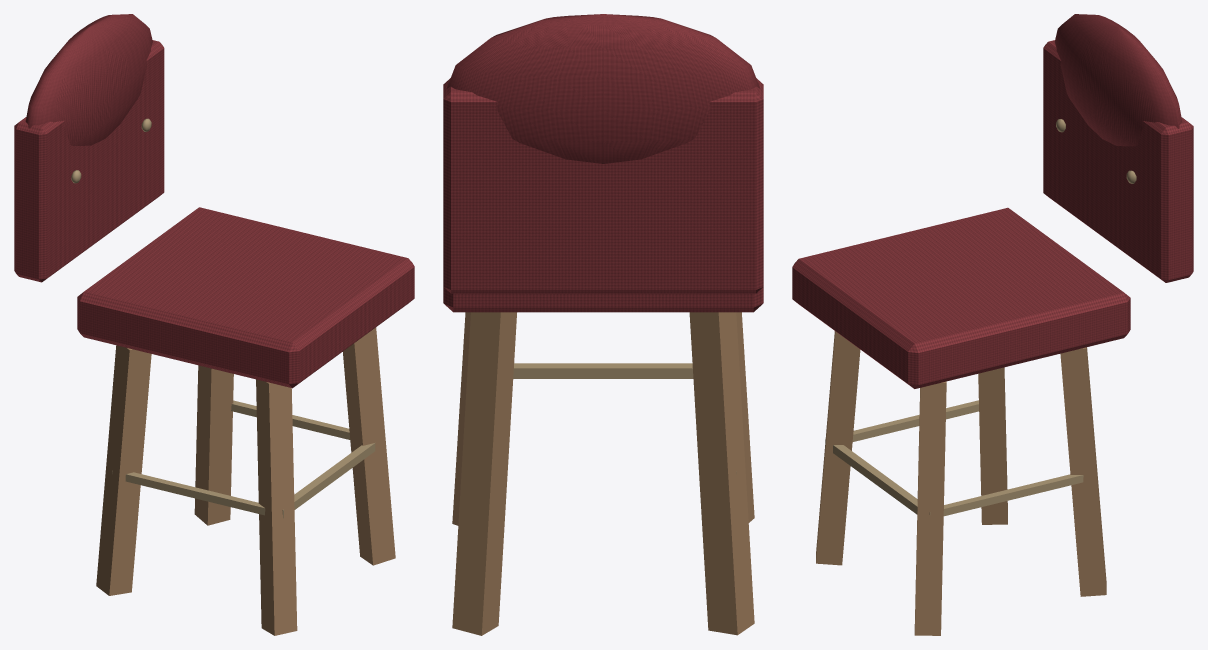
Rendered from yokocho-snack-chair.glb.
3 renders of one model, left to right at view 1: azimuth 30°, elevation 25°; view 2: azimuth 150°, elevation 25°; view 3: azimuth 270°, elevation 25°, orthographic. The views are drawn at different scales.
Parts seen in each view (by area): view 1: Shops/S04/Personality/Seating/4_snack__Night_WineUpholstery, Shops/S04/Personality/Seating/4_snack__Night_Walnut, Shops/S04/Personality/Seating/4_snack__Bronze; view 2: Shops/S04/Personality/Seating/4_snack__Night_WineUpholstery, Shops/S04/Personality/Seating/4_snack__Night_Walnut, Shops/S04/Personality/Seating/4_snack__Bronze; view 3: Shops/S04/Personality/Seating/4_snack__Night_WineUpholstery, Shops/S04/Personality/Seating/4_snack__Night_Walnut, Shops/S04/Personality/Seating/4_snack__Bronze.
Part boxes in pixels (box(x1,y1,x2,y2)): Shops/S04/Personality/Seating/4_snack__Night_WineUpholstery: box(14, 14, 414, 388); Shops/S04/Personality/Seating/4_snack__Night_Walnut: box(96, 327, 395, 635); Shops/S04/Personality/Seating/4_snack__Bronze: box(71, 118, 375, 518); Shops/S04/Personality/Seating/4_snack__Night_WineUpholstery: box(443, 14, 763, 312); Shops/S04/Personality/Seating/4_snack__Night_Walnut: box(452, 312, 754, 635); Shops/S04/Personality/Seating/4_snack__Bronze: box(513, 363, 736, 474); Shops/S04/Personality/Seating/4_snack__Night_WineUpholstery: box(792, 14, 1193, 388); Shops/S04/Personality/Seating/4_snack__Night_Walnut: box(816, 331, 1106, 635); Shops/S04/Personality/Seating/4_snack__Bronze: box(825, 119, 1136, 516).
Bounding box in the file's own units: 0.7375 × 1.12 × 0.797.
3 materials, 1 textured.
